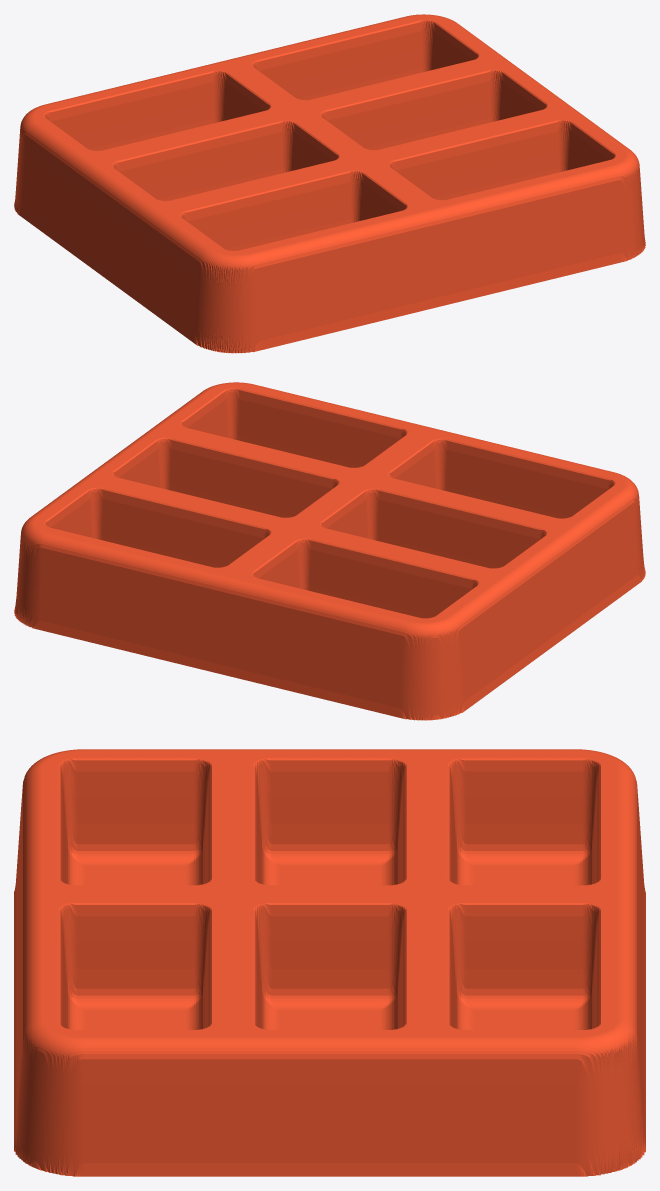
File: mold.glb
3 renders of one model, top to bottom at view 1: azimuth 30°, elevation 25°; view 2: azimuth 150°, elevation 25°; view 3: azimuth 270°, elevation 25°, orthographic. The views are drawn at different scales.
Parts seen in each view (by area): view 1: geometry_0; view 2: geometry_0; view 3: geometry_0.
Part boxes in pixels (<box>): geometry_0: <box>14,14,645,353</box>; geometry_0: <box>14,382,645,720</box>; geometry_0: <box>14,749,645,1176</box>.
Size of the model in its own units: 0.0947 by 0.0182 by 0.0817.
